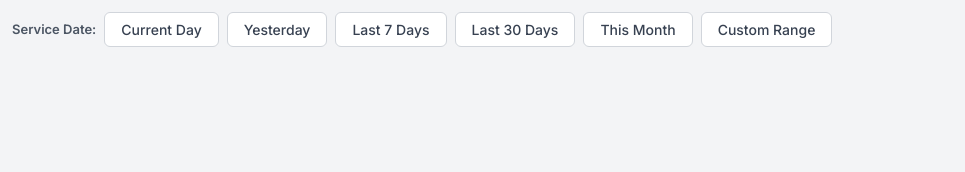
Test: DatePresets › shows custom date inputs when Custom Range is clicked
Click the button "Custom Range" at (766, 30), box [701, 12, 832, 47]
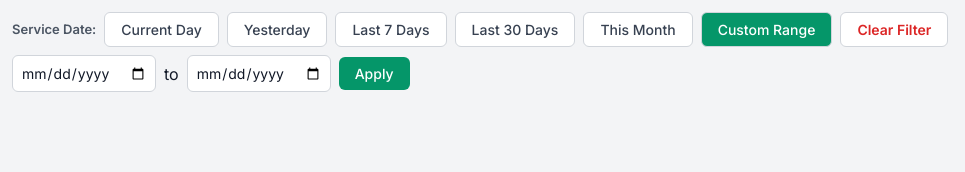
Now the 1st date field is shown, box [12, 55, 156, 92]
Now the button "Apply" is shown, box [339, 57, 410, 90]
